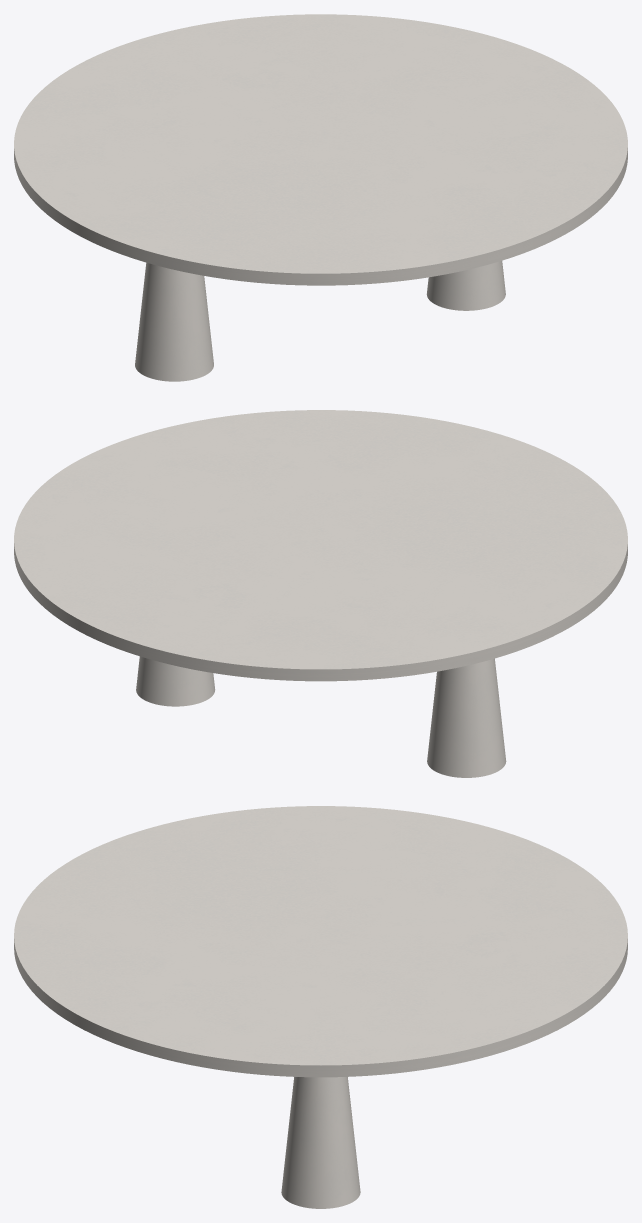
Rendered from pearlwhite_round_standard_pebble.glb.
3 renders of one model, top to bottom at view 1: azimuth 30°, elevation 25°; view 2: azimuth 150°, elevation 25°; view 3: azimuth 270°, elevation 25°, orthographic.
Parts seen in each view (by area): view 1: tabletop_round_standard.006, pearlwhite_round_standard_pebble; view 2: tabletop_round_standard.006, pearlwhite_round_standard_pebble; view 3: tabletop_round_standard.006, pearlwhite_round_standard_pebble.
Part boxes in pixels (x1,y1,x2,y2): tabletop_round_standard.006: [14, 14, 627, 285]; pearlwhite_round_standard_pebble: [135, 261, 505, 381]; tabletop_round_standard.006: [14, 410, 627, 681]; pearlwhite_round_standard_pebble: [136, 656, 506, 777]; tabletop_round_standard.006: [14, 806, 627, 1077]; pearlwhite_round_standard_pebble: [281, 1077, 360, 1208].
Size of the model in its own units: 7.5 by 2.5 by 7.5.
Materials: 1 (1 with a texture image).
